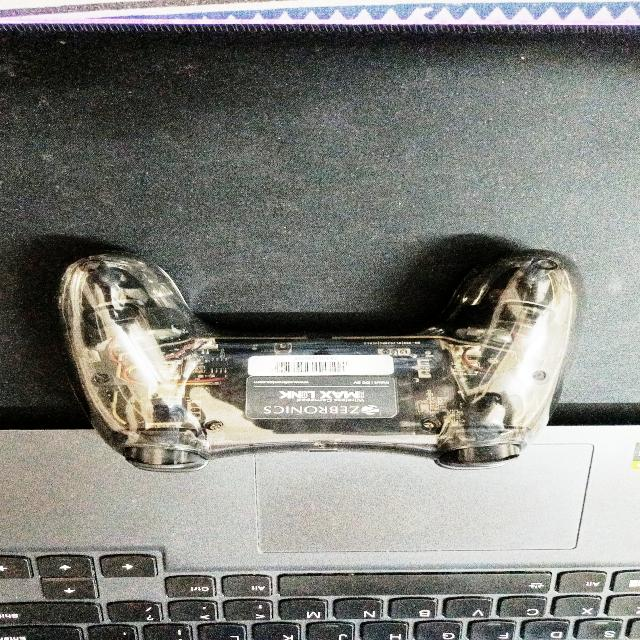gamepad: (57, 249, 578, 474)
